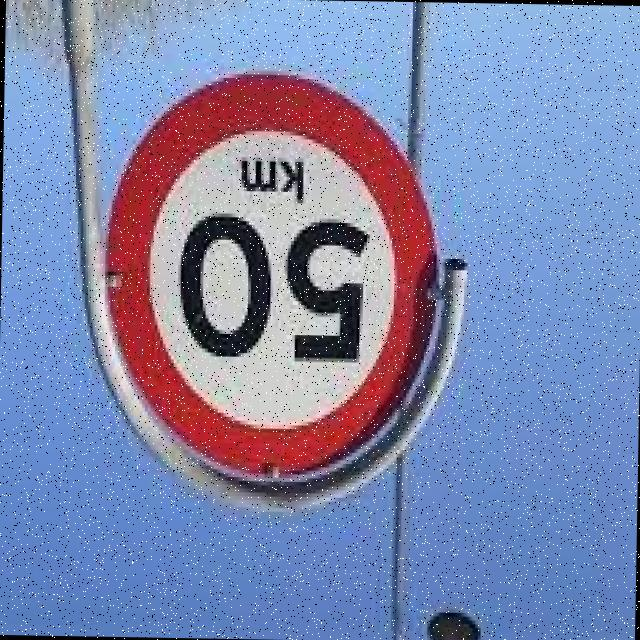speed_limit_50: (96, 63, 451, 488)
